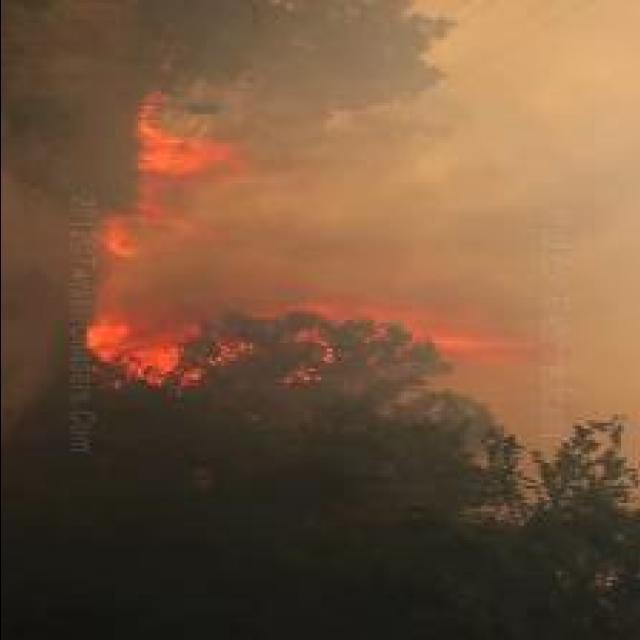Fire: (83, 304, 546, 407), (90, 94, 270, 260)
